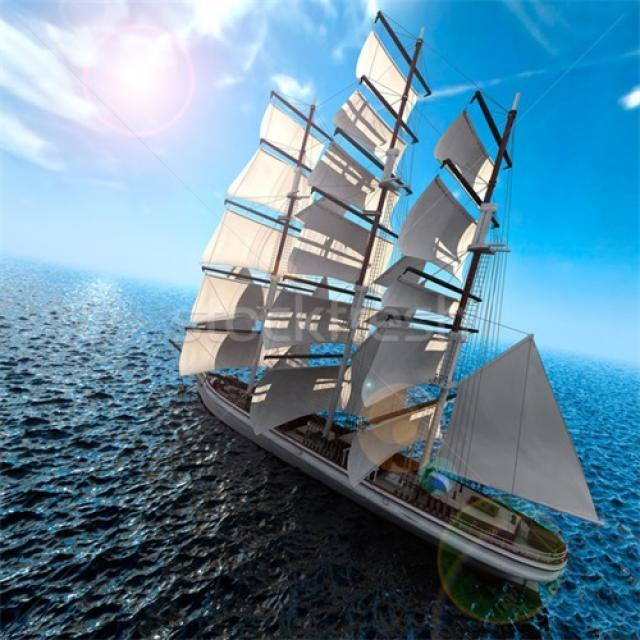Ship: (199, 17, 608, 592)
